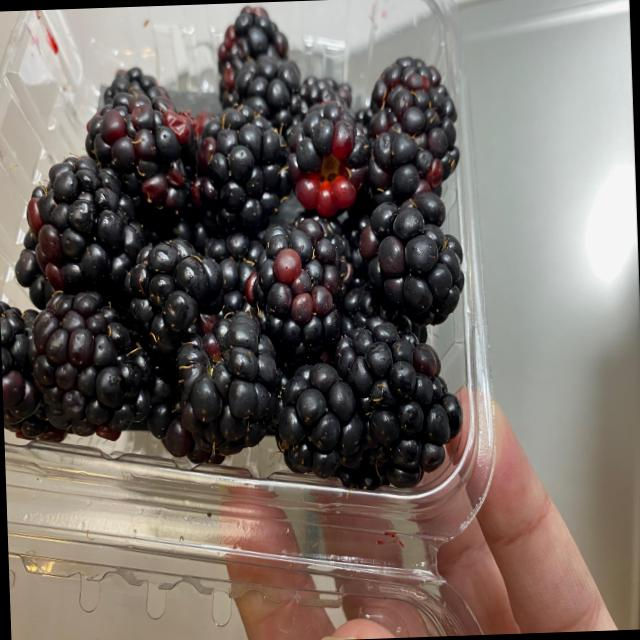blackberries: (0, 13, 458, 505)
